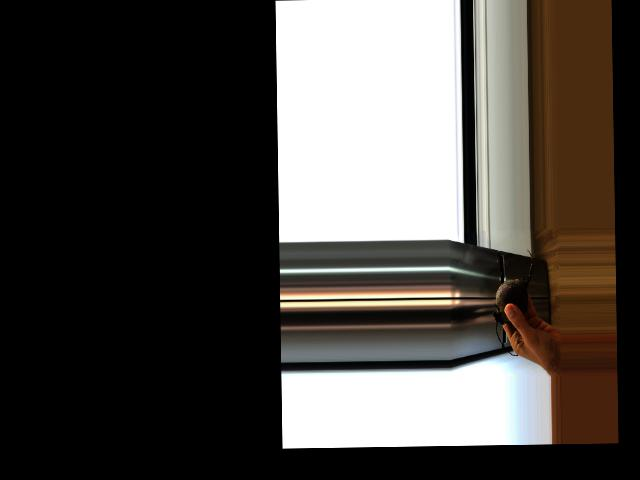beet: (492, 248, 534, 356)
